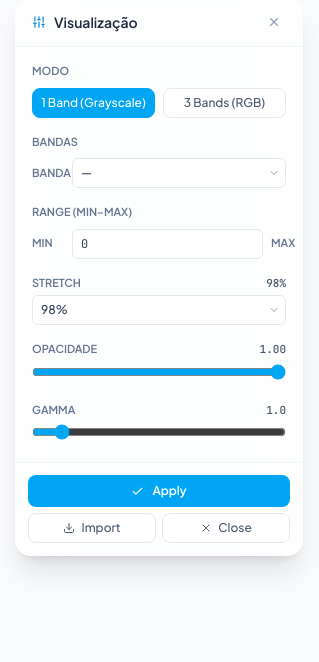
Test case: RasterVisPanel › uses defaults for missing bands in RGB mode
Switch to RGB mode
Step 1. Click the button "3 Bands (RGB)" → click(224, 102), box [163,88,286,118]
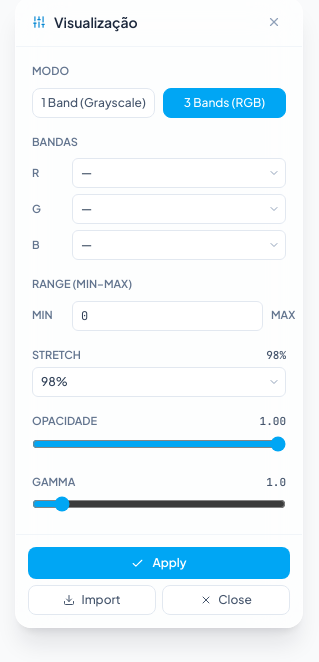
Expected: the 1st dropdown shows "—", [72,158,286,188]
Now the 2nd dropdown shows "—", box [72,194,286,224]
Now the 3rd dropdown shows "—", box [72,230,286,260]
